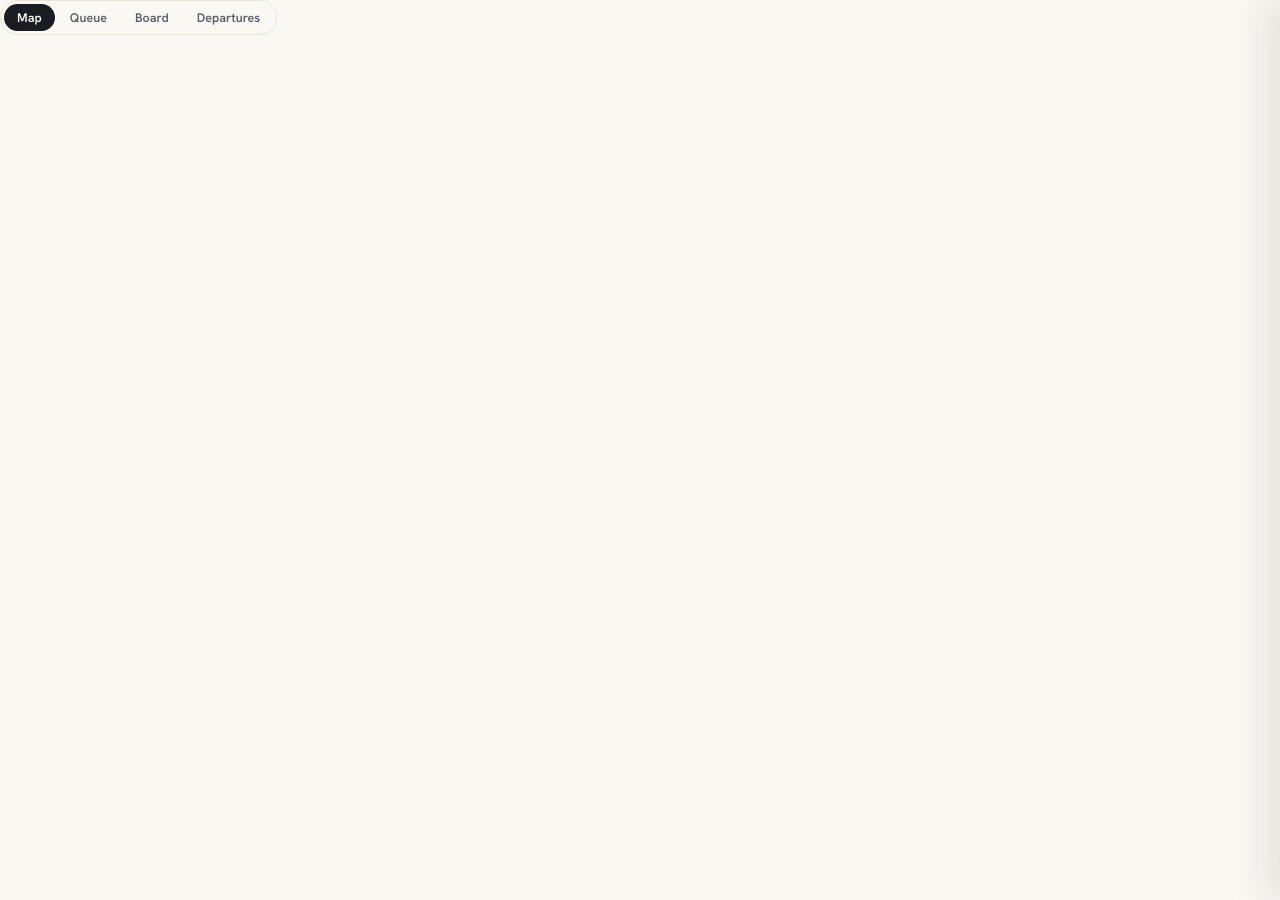
Test: boards on read-only maps › a Viewer share › Queue renders the stations but offers no status controls
The width and height of the screenshot is (1280, 900).
Expected: the element showing "Map Queue Board Departures" is shown, [0,0,277,35]
Click the button "Queue".
click(88, 18)  # box [57,4,120,31]
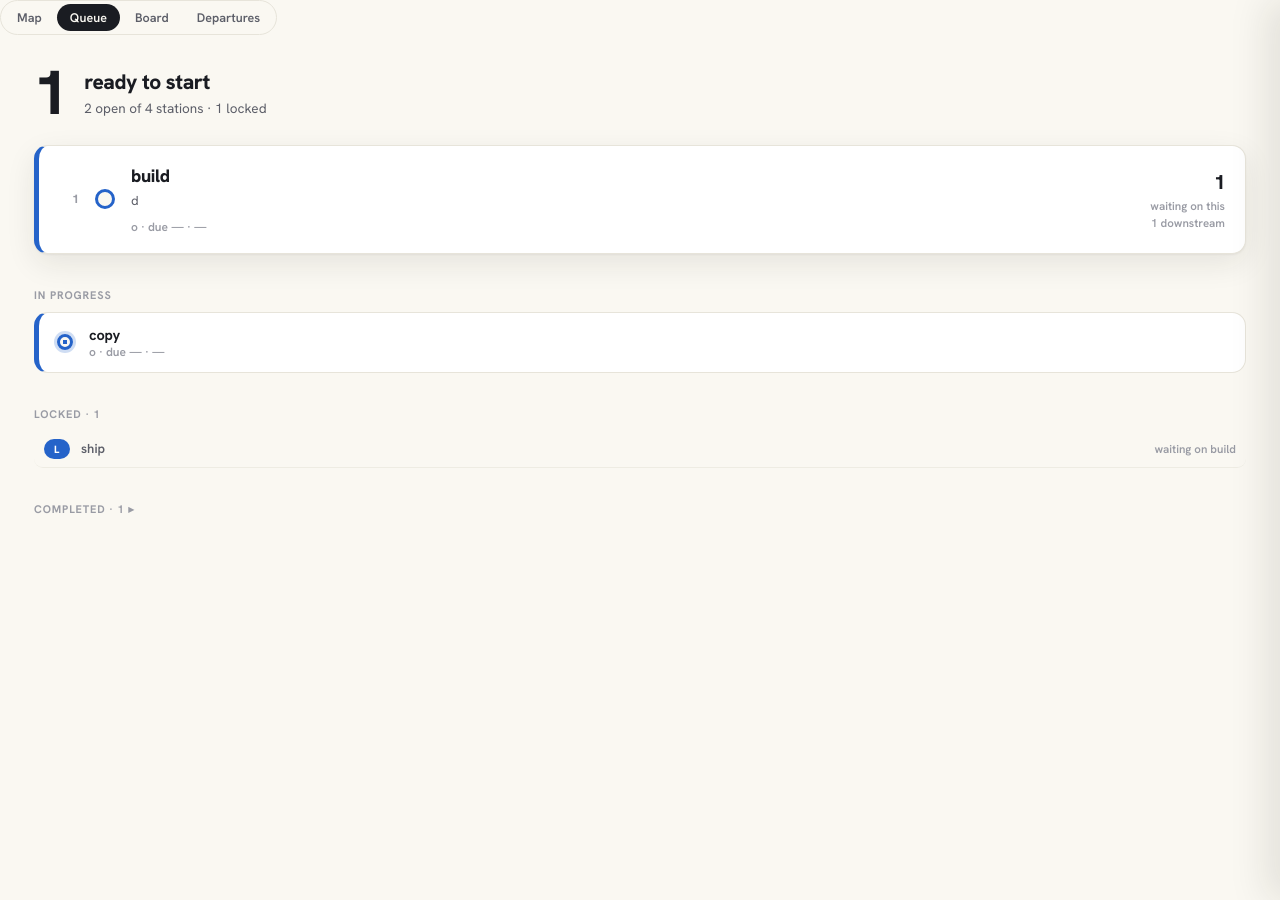
Now the element with class "board" is shown
Now the text "build" is shown, box [131,164,170,187]
